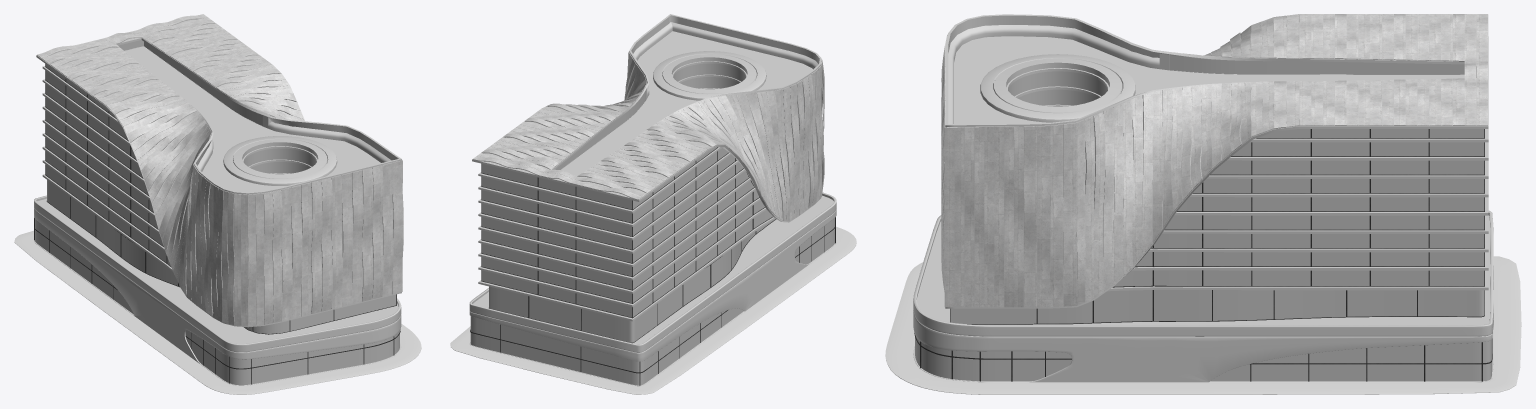
The model's file is KB3D_UTP_BldgSM_D.fbx.
3 views of the same model, side by side, from view 1: azimuth 30°, elevation 25°; view 2: azimuth 150°, elevation 25°; view 3: azimuth 270°, elevation 25° (orthographic). The views are drawn at different scales.
Parts seen in each view (by area): view 1: KB3D_UTP_BldgSM_D_BuildingA, KB3D_UTP_BldgSM_D_Main, KB3D_UTP_BldgSM_D_Base; view 2: KB3D_UTP_BldgSM_D_BuildingA, KB3D_UTP_BldgSM_D_Main, KB3D_UTP_BldgSM_D_Base; view 3: KB3D_UTP_BldgSM_D_BuildingA, KB3D_UTP_BldgSM_D_Main, KB3D_UTP_BldgSM_D_Base.
Boxes of the visible parts, <box> form: KB3D_UTP_BldgSM_D_BuildingA: <box>36,14,403,334</box>; KB3D_UTP_BldgSM_D_Main: <box>34,195,401,385</box>; KB3D_UTP_BldgSM_D_Base: <box>14,230,421,394</box>; KB3D_UTP_BldgSM_D_BuildingA: <box>472,14,824,343</box>; KB3D_UTP_BldgSM_D_Main: <box>469,192,836,386</box>; KB3D_UTP_BldgSM_D_Base: <box>450,226,856,394</box>; KB3D_UTP_BldgSM_D_BuildingA: <box>941,14,1488,324</box>; KB3D_UTP_BldgSM_D_Main: <box>913,210,1493,382</box>; KB3D_UTP_BldgSM_D_Base: <box>885,256,1521,394</box>.
Size of the model in its own units: 5929 by 5072 by 11330.
